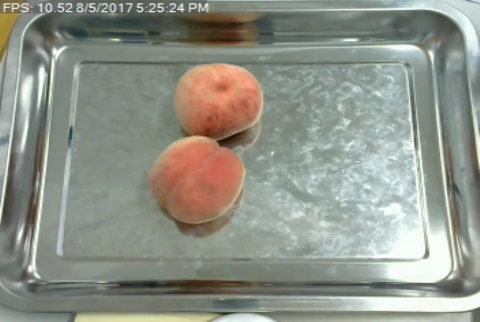Peach: (147, 135, 245, 224), (174, 61, 262, 138)
